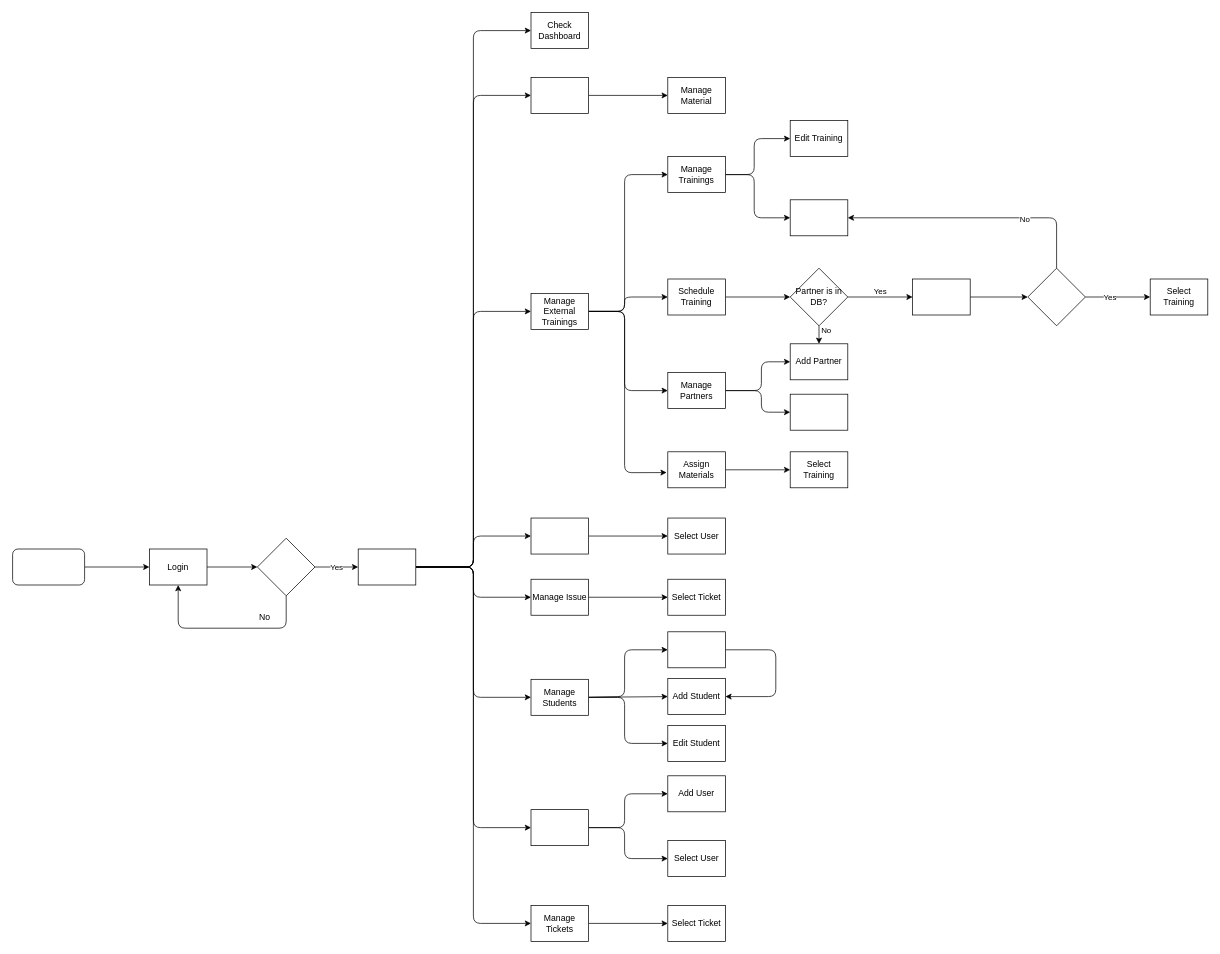
This 1220x954 diagram has some shape labels left out. Each missing label, with the centre of its shape:
Add CourseClass: the point at 696,649
Add Training: the point at 818,217
Check Stock: the point at 559,95
Correct data?: the point at 286,566
Edit Partner: the point at 818,411
Manage Clothing: the point at 559,535
Manage Users: the point at 559,827
Select Partner: the point at 941,296
Show Menu: the point at 386,566
Start: the point at 48,566
Trainings exists?: the point at 1056,296
